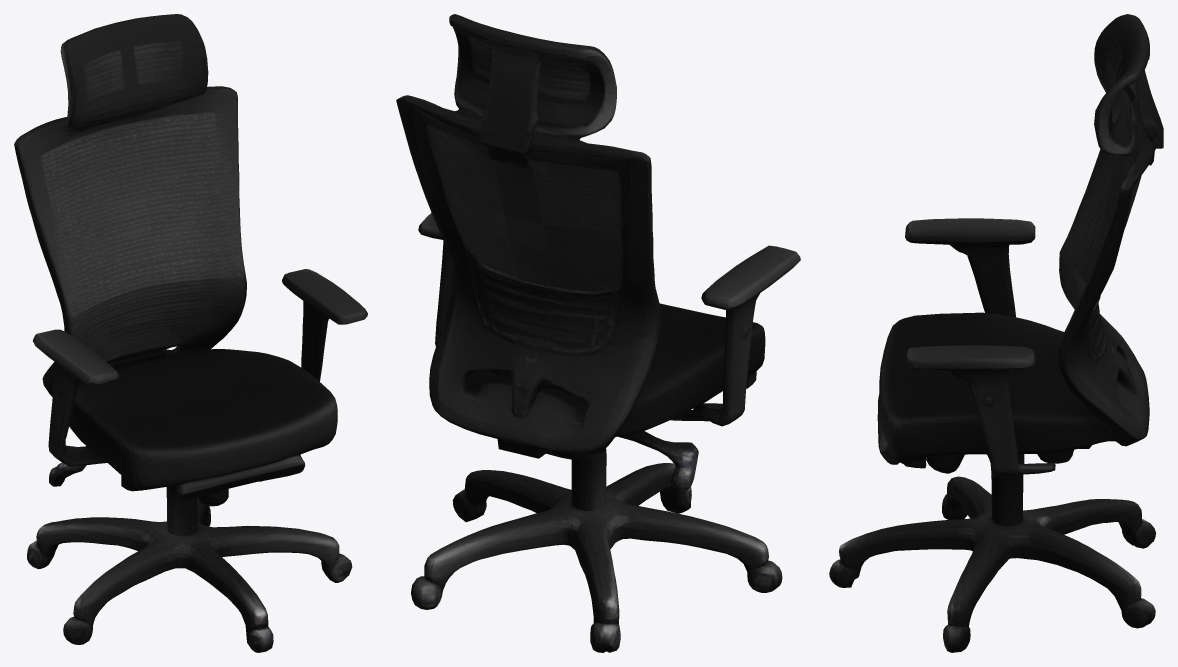
Rendered from chair.glb.
3 renders of one model, left to right at view 1: azimuth 30°, elevation 25°; view 2: azimuth 150°, elevation 25°; view 3: azimuth 270°, elevation 25°, orthographic. The views are drawn at different scales.
Parts seen in each view (by area): view 1: world; view 2: world; view 3: world.
Part boxes in pixels (<box>): world: <box>14,14,367,652</box>; world: <box>396,14,800,652</box>; world: <box>829,14,1163,652</box>.
Size of the model in its own units: 0.5729 by 1 by 0.5576.
1 material, 1 textured.
